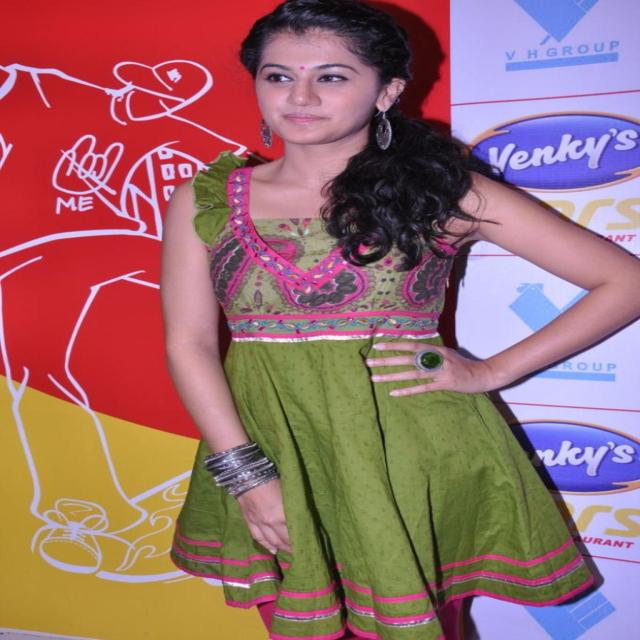Face: (241, 25, 400, 148)
